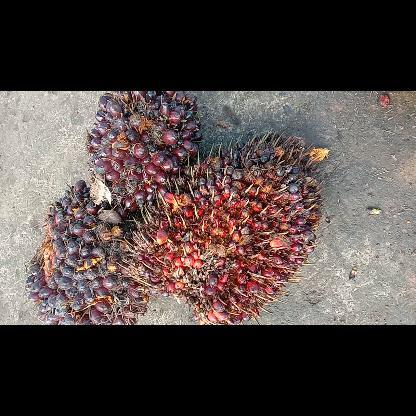Kurang masak: (30, 180, 146, 324), (88, 90, 202, 212)
TBS masak: (144, 134, 324, 322)
